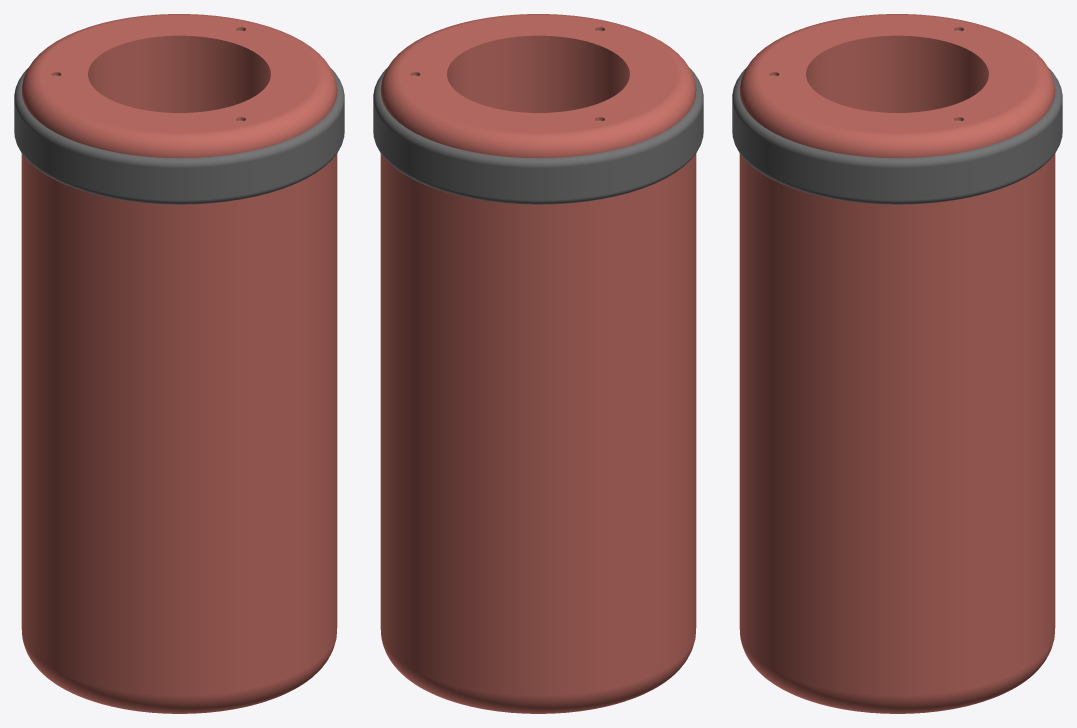
The model's file is step_02.glb.
3 views of the same model, side by side, from view 1: azimuth 30°, elevation 25°; view 2: azimuth 150°, elevation 25°; view 3: azimuth 270°, elevation 25° (orthographic).
Visible parts, largest first — view 1: part__float hull, part__fender ring; view 2: part__float hull, part__fender ring; view 3: part__float hull, part__fender ring.
Part boxes in pixels (<box>): part__float hull: <box>21,14,337,713</box>; part__fender ring: <box>14,68,344,204</box>; part__float hull: <box>380,14,696,713</box>; part__fender ring: <box>373,68,703,204</box>; part__float hull: <box>739,14,1055,713</box>; part__fender ring: <box>732,68,1062,204</box>.
Bounding box in the file's own units: 524 × 1020 × 524.
